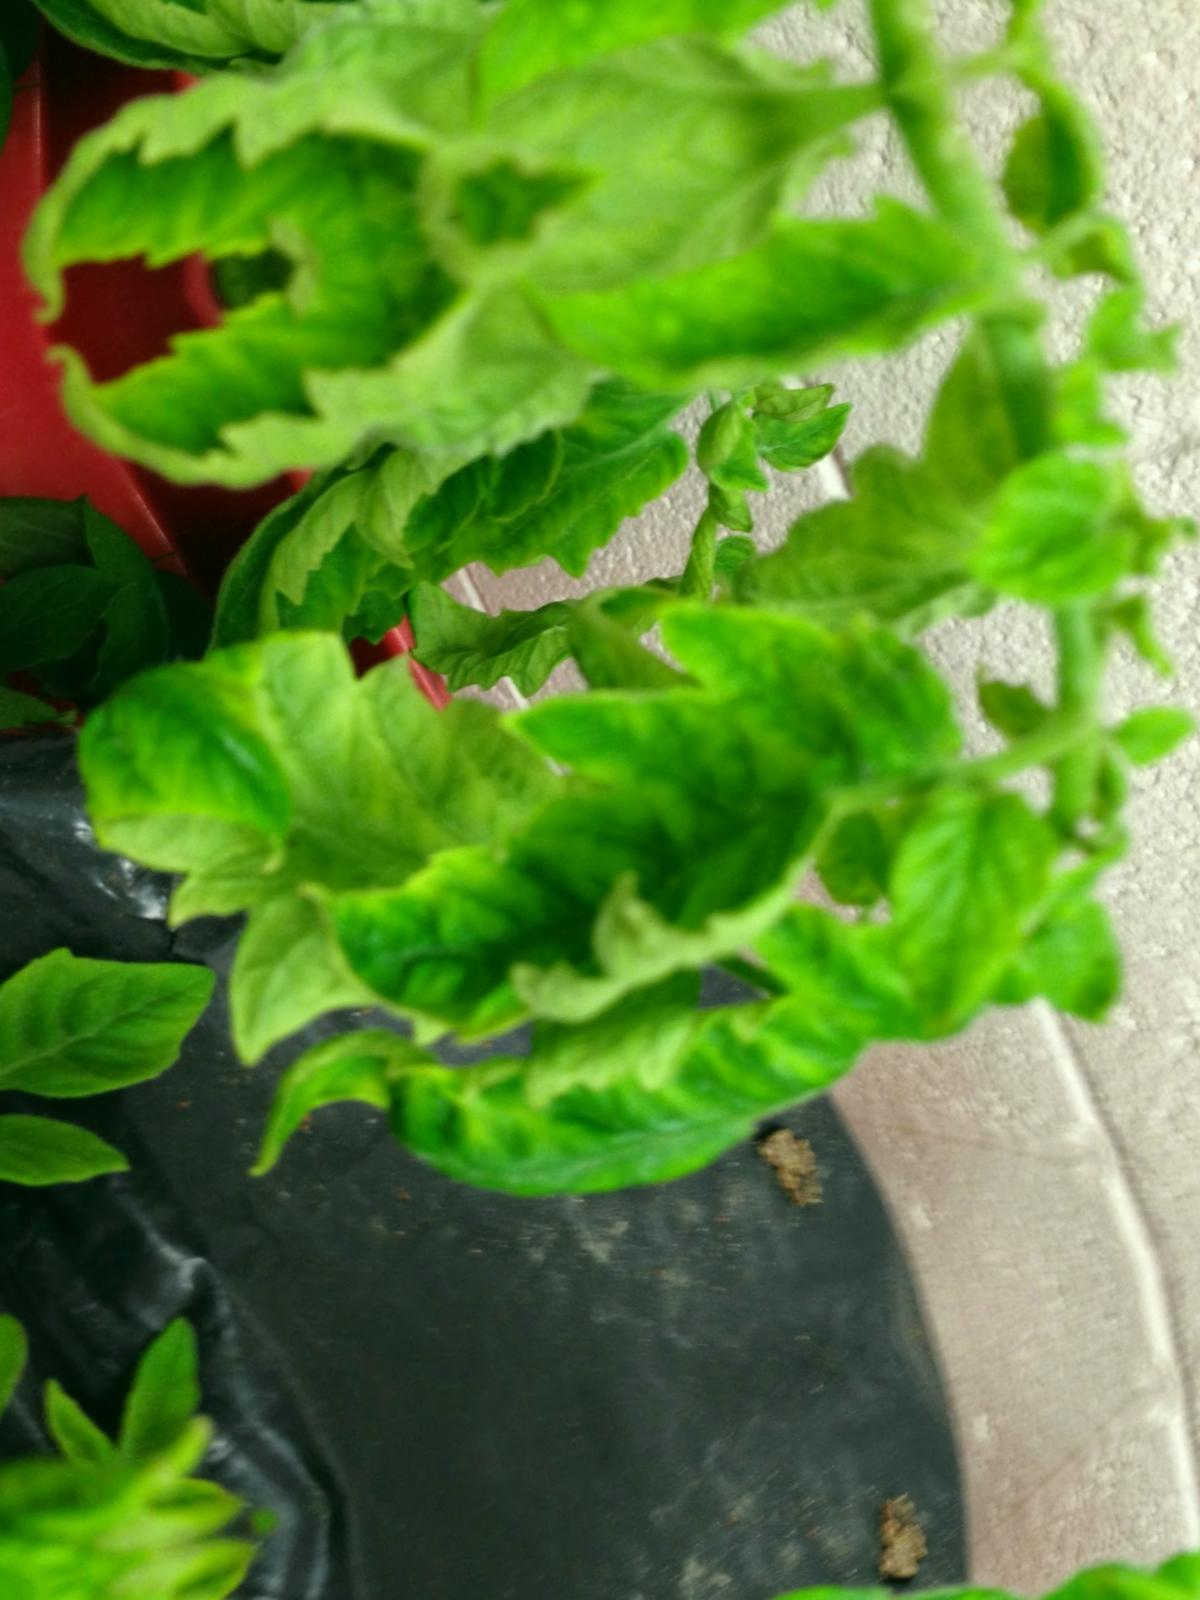Tomato leaf yellow virus: (237, 564, 1064, 1105), (362, 828, 1200, 1331), (511, 152, 1058, 484), (0, 919, 234, 1145)
